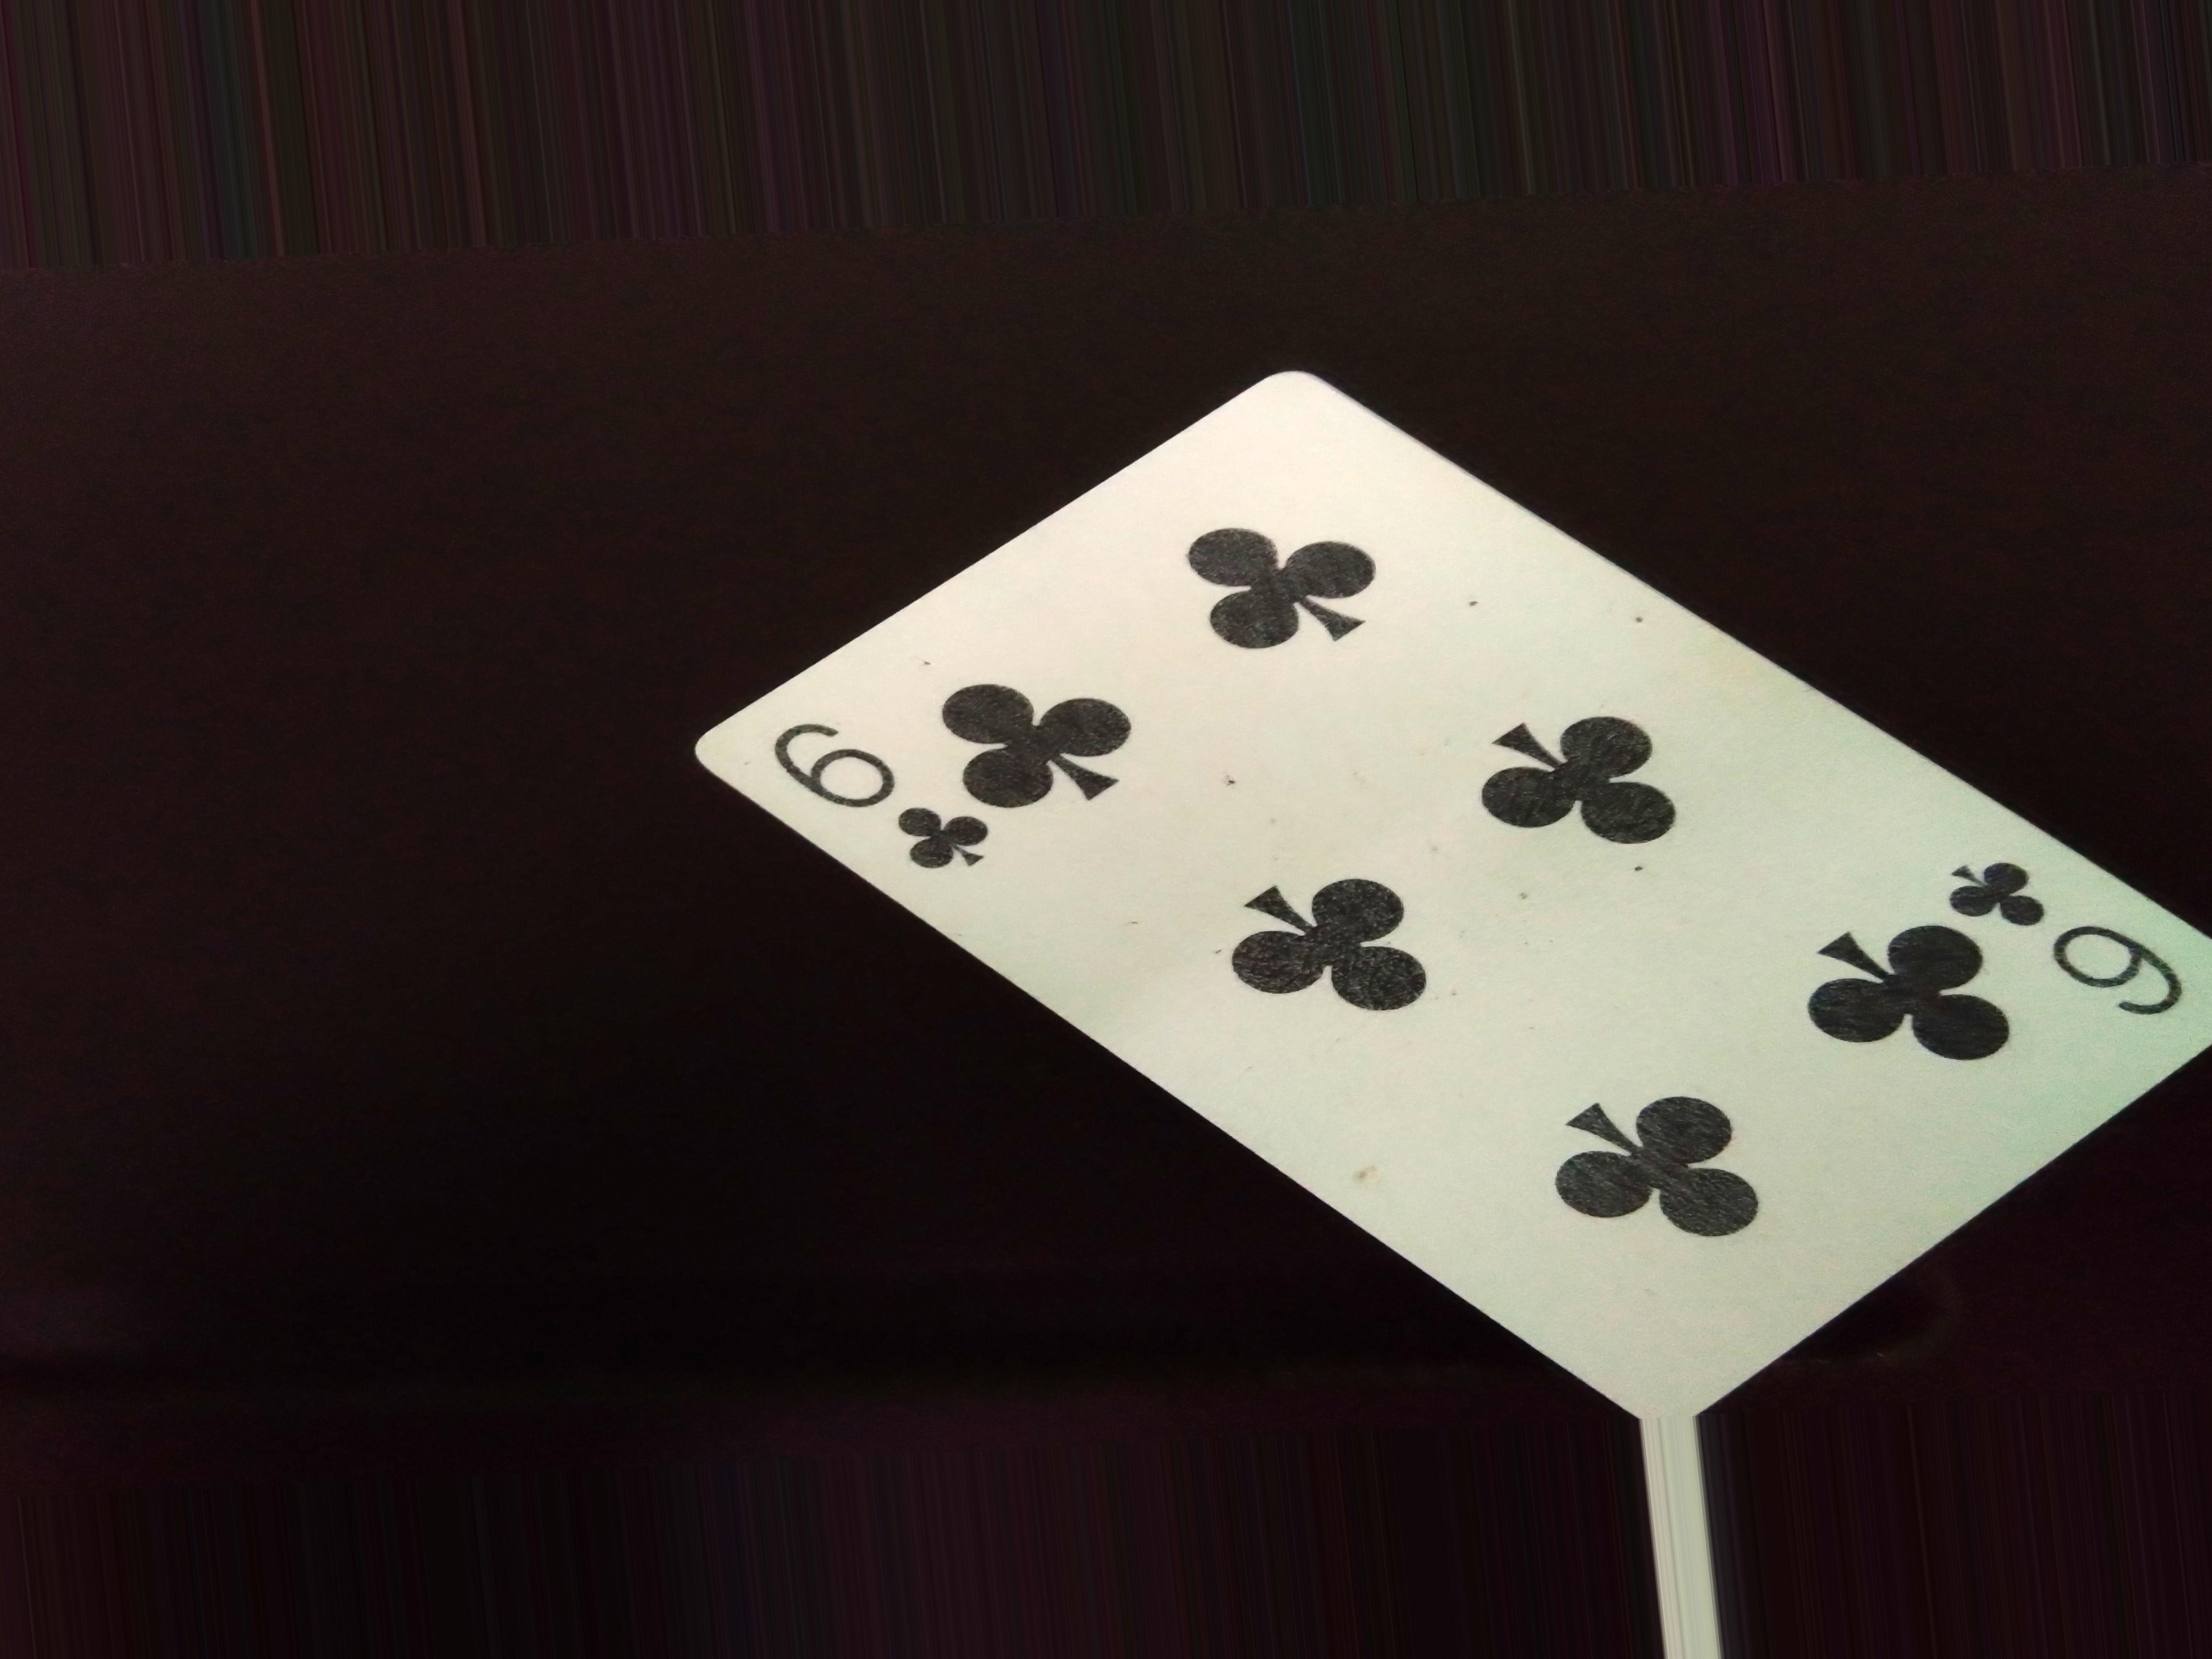6C: (758, 720, 996, 875)
